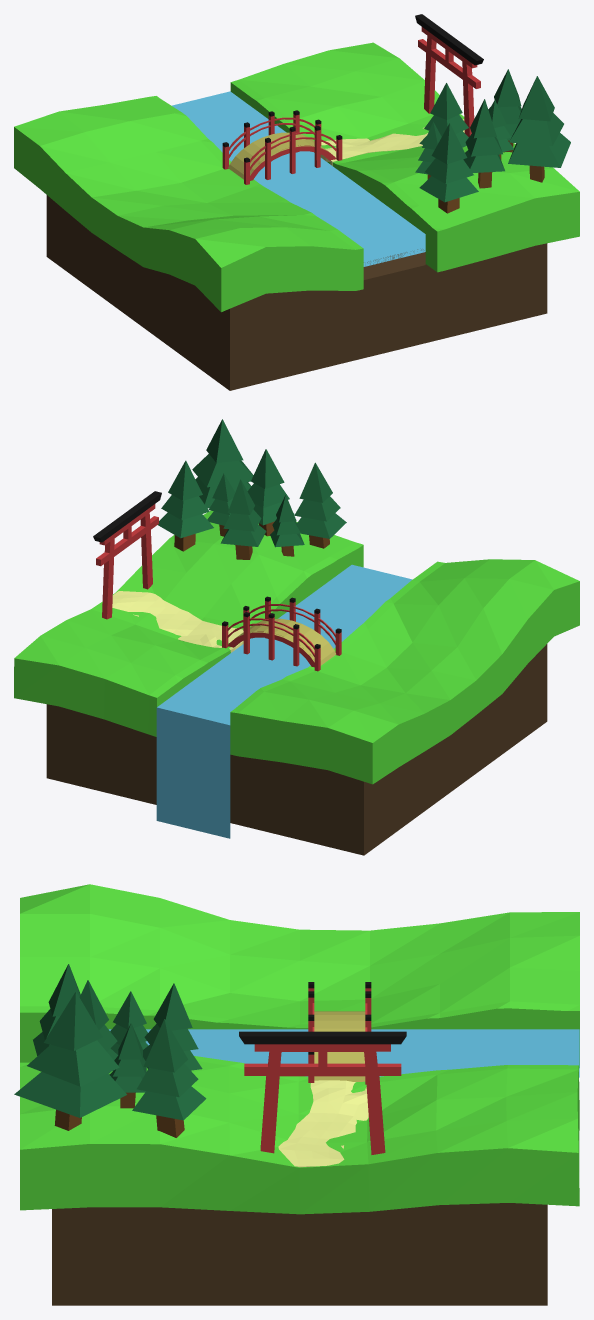
The picture shows the model from 3 angles, top to bottom: view 1: azimuth 30°, elevation 25°; view 2: azimuth 150°, elevation 25°; view 3: azimuth 270°, elevation 25°; orthographic projection. The views are drawn at different scales.
Parts seen in each view (by area): view 1: Cube, Cylinder, Cube.003, Cube.009, Cube.006, Cube.002, Cube.008, Cube.007, Cube.004, Cube.005, Cube.001; view 2: Cube, Cylinder, Cube.009, Cube.008, Cube.004, Cube.003, Cube.006, Cube.007, Cube.002, Cube.005, Cube.001; view 3: Cube, Cube.009, Cube.003, Cube.008, Cube.004, Cylinder, Cube.007, Cube.001, Cube.006, Cube.005, Cube.002.
Boxes of the visible parts, left/top/right/bottom form: Cube: left=14, top=42, right=579, bottom=390; Cylinder: left=222, top=110, right=342, bottom=184; Cube.003: left=508, top=76, right=570, bottom=182; Cube.009: left=415, top=14, right=483, bottom=136; Cube.006: left=419, top=123, right=478, bottom=213; Cube.002: left=463, top=99, right=504, bottom=188; Cube.008: left=314, top=119, right=464, bottom=165; Cube.007: left=419, top=83, right=468, bottom=147; Cube.004: left=488, top=69, right=521, bottom=152; Cube.005: left=415, top=121, right=441, bottom=179; Cube.001: left=489, top=100, right=513, bottom=159; Cube: left=14, top=510, right=579, bottom=855; Cylinder: left=222, top=596, right=341, bottom=671; Cube.009: left=93, top=491, right=161, bottom=619; Cube.008: left=112, top=591, right=243, bottom=652; Cube.004: left=158, top=460, right=213, bottom=551; Cube.003: left=192, top=419, right=253, bottom=508; Cube.006: left=294, top=462, right=346, bottom=548; Cube.007: left=220, top=479, right=266, bottom=559; Cube.002: left=247, top=449, right=294, bottom=536; Cube.005: left=270, top=495, right=304, bottom=556; Cube.001: left=207, top=473, right=235, bottom=536; Cube: left=20, top=884, right=579, bottom=1305; Cube.009: left=239, top=1031, right=406, bottom=1154; Cube.003: left=14, top=992, right=126, bottom=1130; Cube.008: left=278, top=1080, right=368, bottom=1167; Cube.004: left=132, top=1019, right=206, bottom=1137; Cylinder: left=308, top=982, right=371, bottom=1084; Cube.007: left=143, top=983, right=202, bottom=1070; Cube.001: left=109, top=1023, right=146, bottom=1108; Cube.006: left=33, top=964, right=80, bottom=1055; Cube.005: left=110, top=991, right=148, bottom=1054; Cube.002: left=79, top=980, right=117, bottom=1073.
Size of the model in its own units: 14.06 by 8.51 by 13.7.
